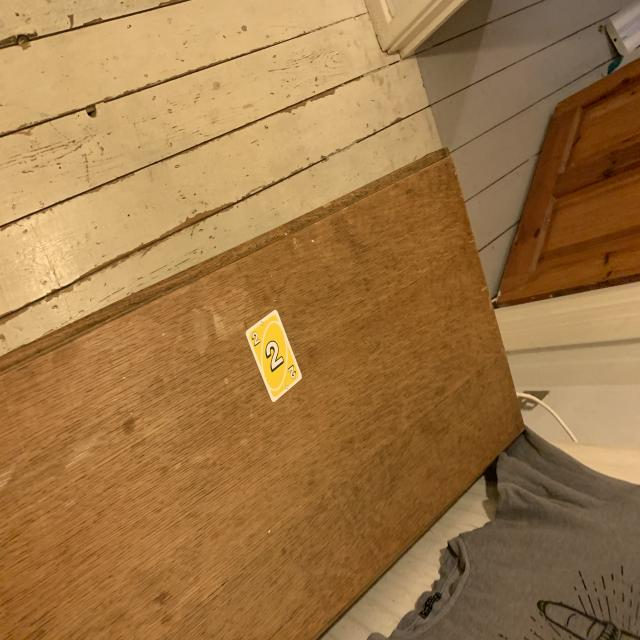lyellow-2: (249, 328, 262, 349)
